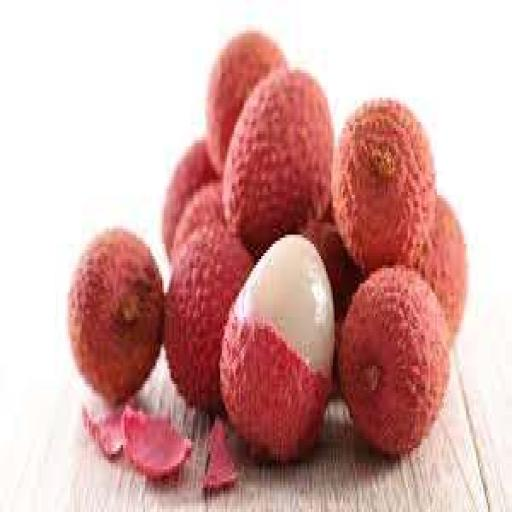lychee: (221, 235, 334, 460), (338, 269, 448, 454), (224, 71, 332, 252), (332, 101, 435, 271), (69, 229, 163, 402), (164, 226, 252, 408), (207, 31, 285, 173), (415, 196, 467, 341), (163, 141, 218, 259), (303, 220, 361, 319), (122, 406, 192, 478), (173, 180, 225, 255)
